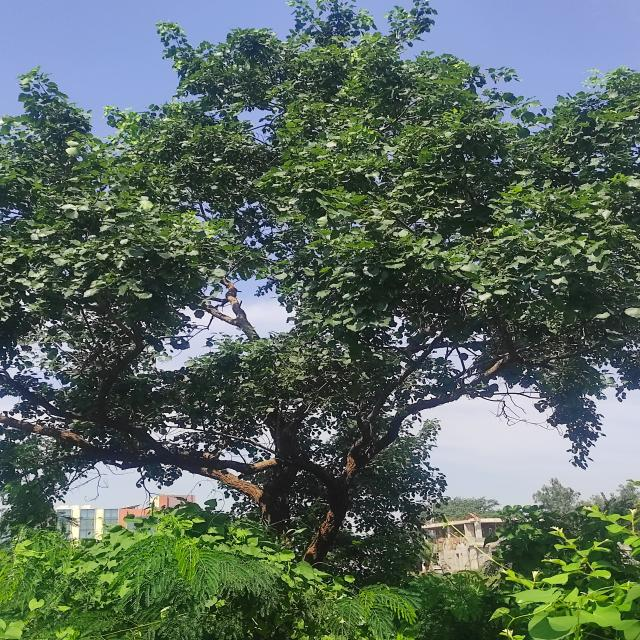Devakanchan tree: (33, 32, 603, 523)
